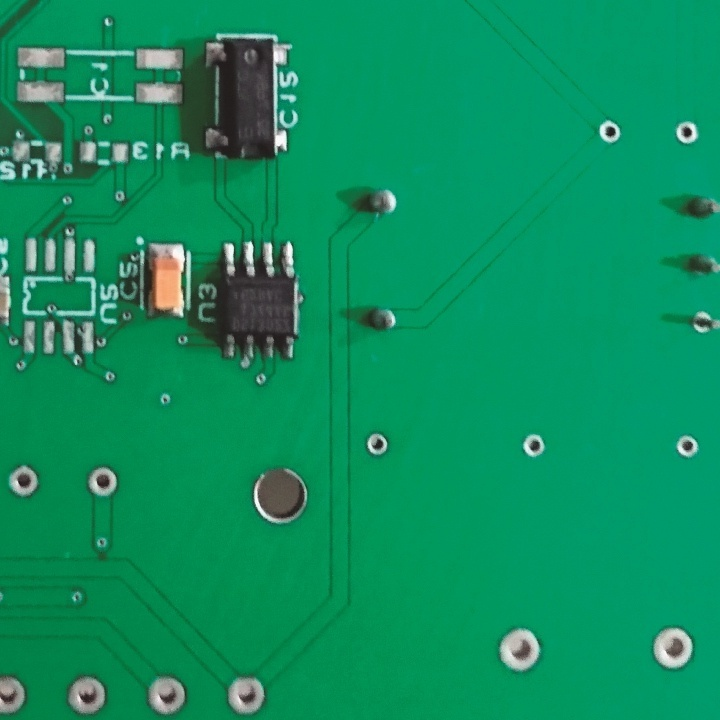F: (497, 626, 545, 676), (142, 670, 188, 718), (223, 671, 268, 718), (63, 673, 111, 717), (651, 625, 694, 673), (1, 671, 33, 717), (4, 463, 41, 500), (86, 463, 125, 497), (689, 304, 720, 341), (363, 428, 391, 461), (598, 118, 622, 148), (520, 432, 546, 459), (675, 120, 699, 146), (675, 434, 700, 458)
